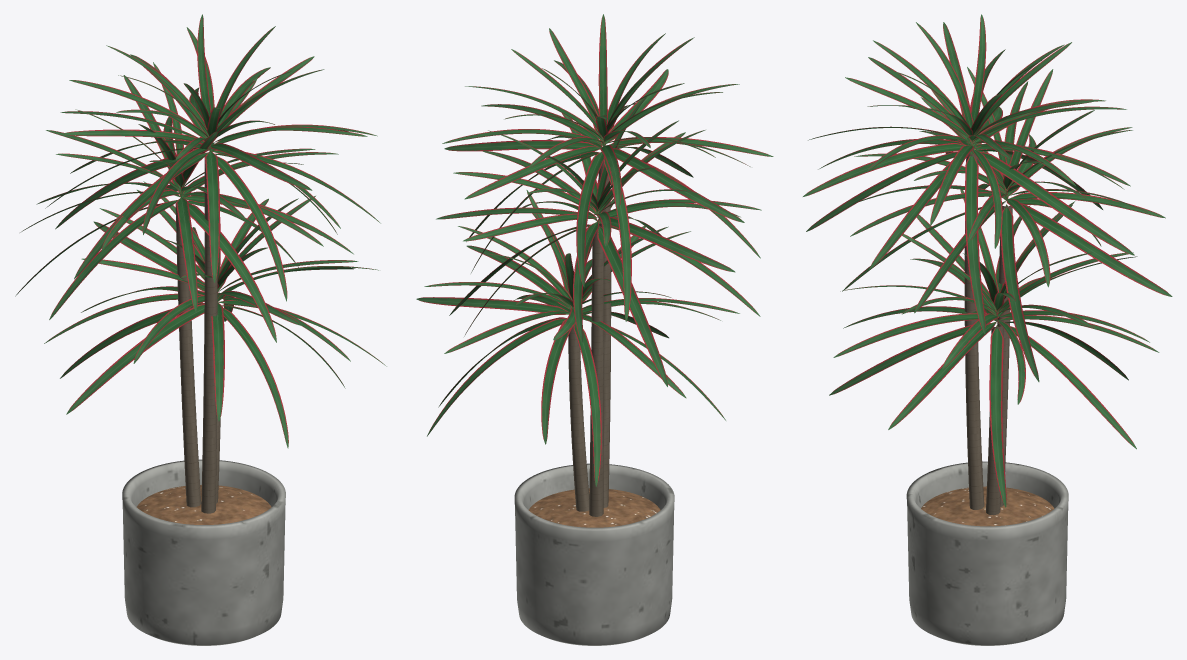
The model's file is dracaena.glb.
The picture shows the model from 3 angles, left to right: view 1: azimuth 30°, elevation 25°; view 2: azimuth 150°, elevation 25°; view 3: azimuth 270°, elevation 25°; orthographic projection. The views are drawn at different scales.
Parts seen in each view (by area): view 1: piece-0, piece-90, piece-1, piece-6, piece-32, piece-63, piece-58, piece-4, piece-37, piece-9, piece-34, piece-60 (+20 smaller); view 2: piece-0, piece-90, piece-1, piece-31, piece-3, piece-62, piece-65, piece-57, piece-10, piece-5, piece-64, piece-8 (+24 smaller); view 3: piece-0, piece-90, piece-1, piece-2, piece-30, piece-56, piece-59, piece-33, piece-66, piece-4, piece-5, piece-58 (+27 smaller).
Part boxes in pixels (bbox=[...]): piece-0: bbox=[122, 459, 285, 645]; piece-90: bbox=[175, 154, 220, 513]; piece-1: bbox=[136, 485, 271, 524]; piece-6: bbox=[66, 304, 204, 414]; piece-32: bbox=[188, 203, 276, 342]; piece-63: bbox=[205, 150, 219, 282]; piece-58: bbox=[217, 156, 287, 301]; piece-4: bbox=[223, 308, 288, 448]; piece-37: bbox=[176, 197, 197, 311]; piece-9: bbox=[211, 302, 224, 421]; piece-34: bbox=[49, 199, 178, 319]; piece-60: bbox=[74, 152, 207, 279]; piece-0: bbox=[514, 463, 674, 645]; piece-90: bbox=[568, 161, 611, 516]; piece-1: bbox=[528, 488, 660, 527]; piece-31: bbox=[597, 226, 667, 386]; piece-3: bbox=[573, 323, 601, 486]; piece-62: bbox=[576, 152, 604, 287]; piece-65: bbox=[613, 148, 744, 222]; piece-57: bbox=[604, 158, 631, 321]; piece-10: bbox=[416, 297, 569, 314]; piece-5: bbox=[427, 318, 566, 436]; piece-64: bbox=[444, 140, 599, 151]; piece-8: bbox=[541, 319, 572, 444]; piece-0: bbox=[906, 461, 1068, 645]; piece-90: bbox=[964, 154, 1012, 515]; piece-1: bbox=[921, 486, 1054, 526]; piece-2: bbox=[989, 325, 1006, 507]; piece-30: bbox=[1000, 204, 1039, 381]; piece-56: bbox=[965, 153, 985, 334]; piece-59: bbox=[980, 152, 1134, 255]; piece-33: bbox=[1015, 203, 1172, 296]; piece-66: bbox=[803, 143, 966, 196]; piece-4: bbox=[829, 323, 996, 395]; piece-5: bbox=[998, 323, 1136, 449]; piece-58: bbox=[806, 151, 957, 231].
Bounding box in the file's own units: 0.3771 × 0.6236 × 0.3682.
Materials: 4 (4 with a texture image).
